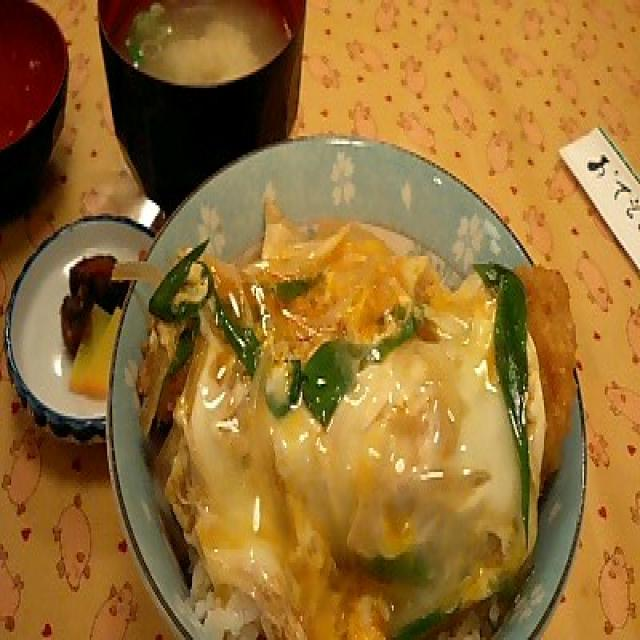汤锅炖物: (102, 0, 307, 109)
